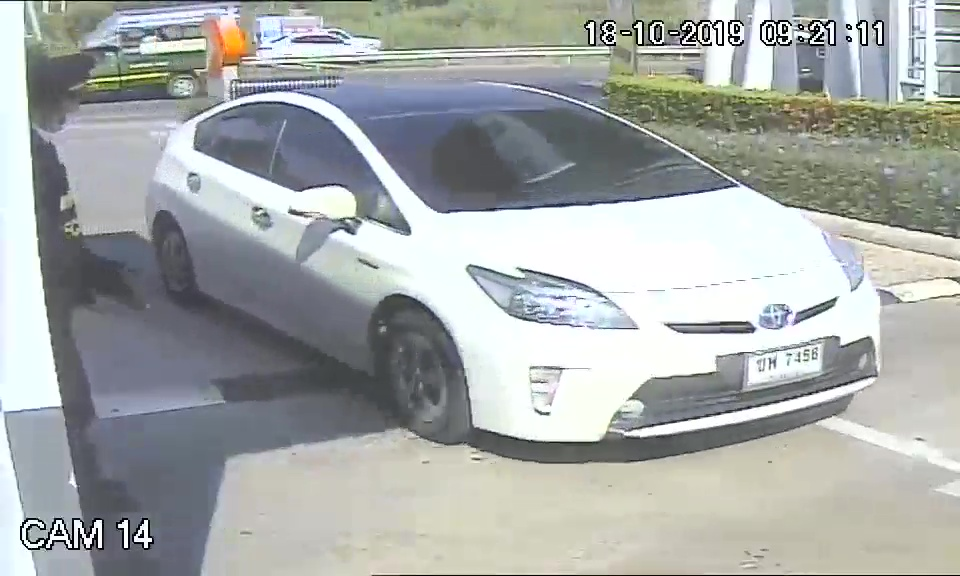sedan: (137, 82, 886, 450)
